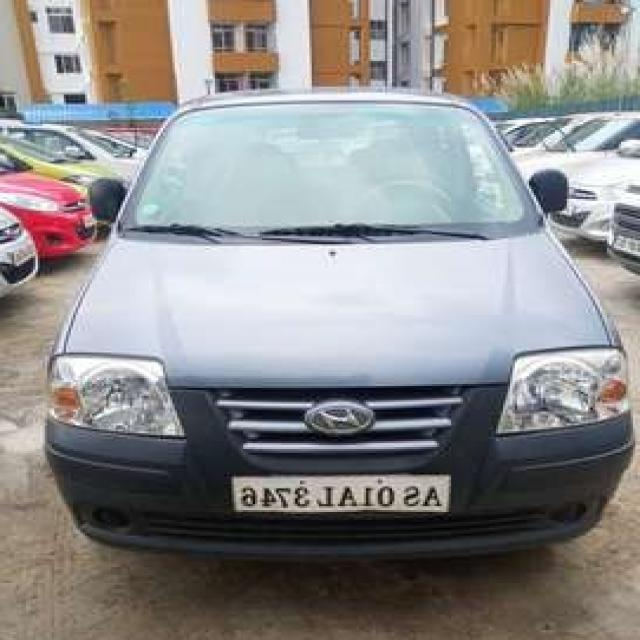license_plate: (228, 471, 453, 520)
